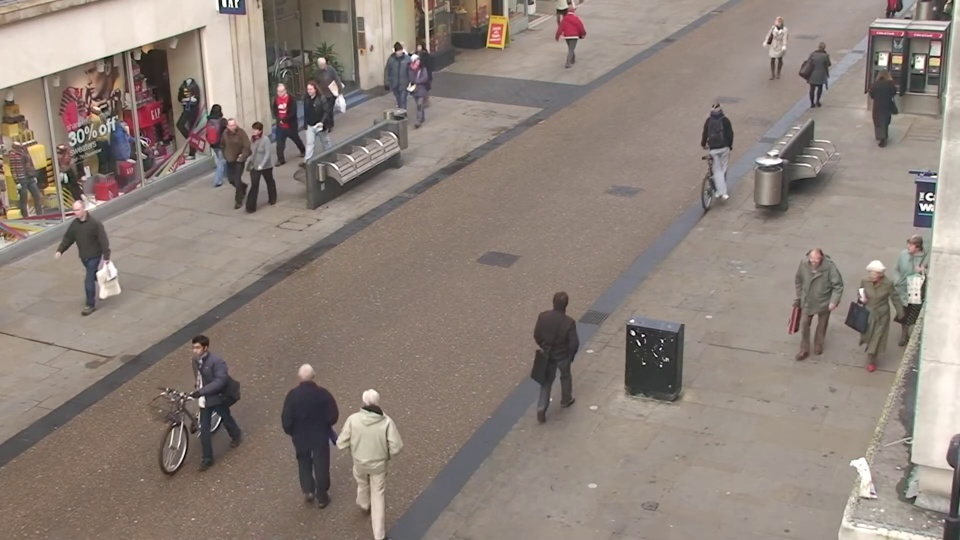pedestrian: (344, 369, 402, 528), (167, 333, 228, 482), (282, 348, 340, 502), (841, 257, 894, 392), (880, 233, 935, 362), (783, 246, 832, 377), (49, 197, 103, 312), (545, 277, 588, 415), (236, 120, 273, 215), (211, 116, 248, 209), (859, 61, 897, 146), (206, 96, 241, 184), (706, 93, 737, 182), (292, 82, 324, 167), (263, 81, 295, 165), (805, 38, 837, 115), (307, 56, 337, 134), (402, 54, 430, 132), (385, 45, 413, 120), (405, 41, 432, 116), (760, 17, 788, 88), (560, 1, 582, 65)
